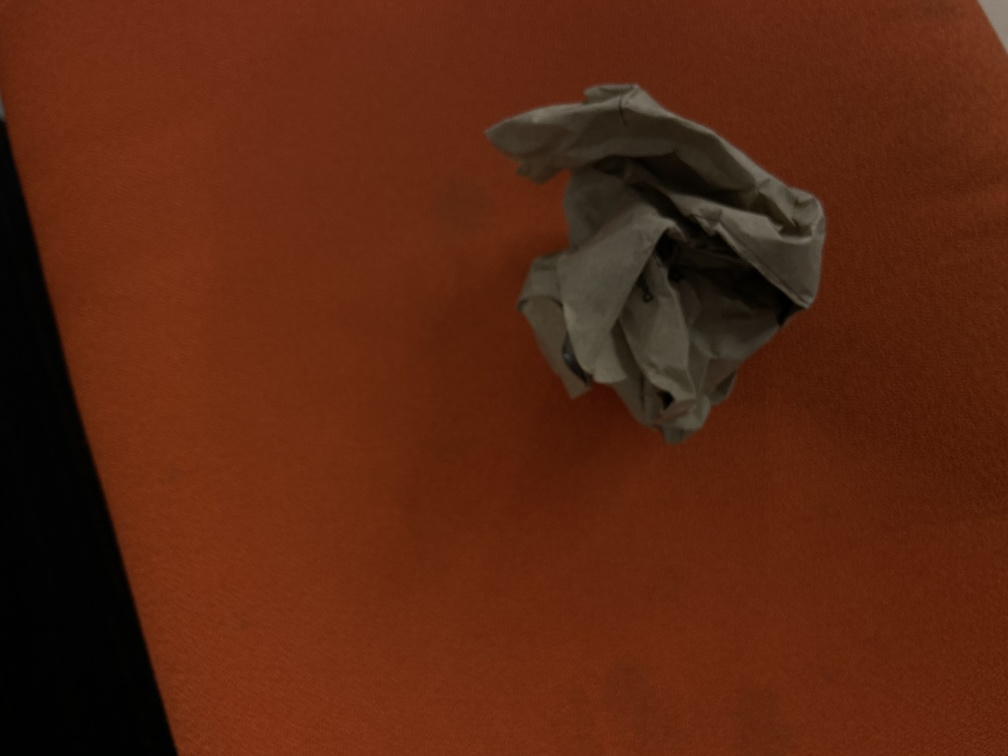paper_brown: (475, 74, 831, 452)
